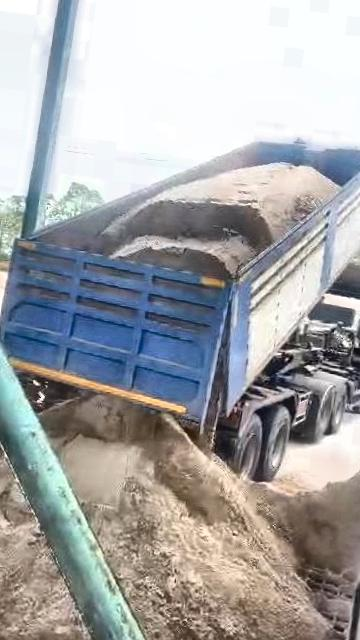sand: (43, 396, 360, 640), (98, 163, 339, 276), (0, 390, 98, 640), (194, 335, 224, 449), (271, 475, 311, 495)
